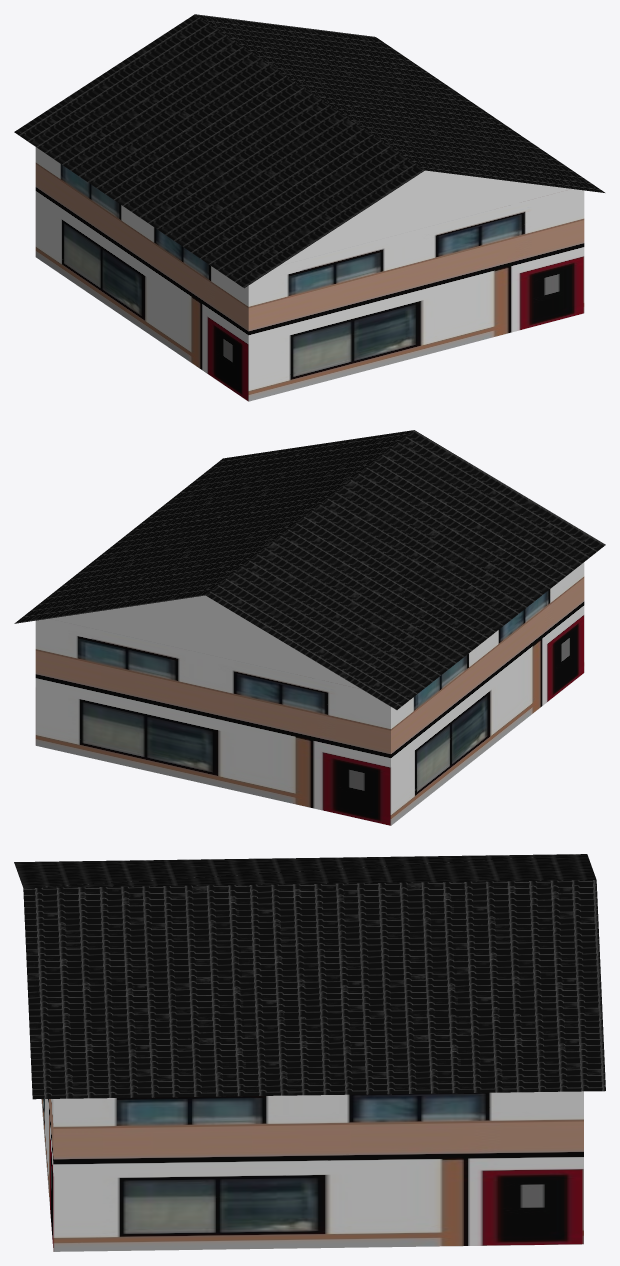
3 views of the same model, one above another, from view 1: azimuth 30°, elevation 25°; view 2: azimuth 150°, elevation 25°; view 3: azimuth 270°, elevation 25° (orthographic). The views are drawn at different scales.
Visible parts, largest first — view 1: CityEngineMaterial_14_m, CityEngineMaterial_5_m, CityEngineMaterial_3_m; view 2: CityEngineMaterial_14_m, CityEngineMaterial_5_m, CityEngineMaterial_3_m; view 3: CityEngineMaterial_14_m, CityEngineMaterial_5_m.
Boxes of the visible parts, box(x1,y1,x2,y2) form: CityEngineMaterial_14_m: box(14, 14, 604, 288); CityEngineMaterial_5_m: box(35, 147, 584, 401); CityEngineMaterial_3_m: box(279, 170, 570, 265); CityEngineMaterial_14_m: box(14, 430, 605, 709); CityEngineMaterial_5_m: box(35, 562, 584, 825); CityEngineMaterial_3_m: box(50, 595, 360, 688); CityEngineMaterial_14_m: box(14, 854, 605, 1099); CityEngineMaterial_5_m: box(41, 1091, 583, 1251).
Size of the model in its own units: 27 by 13.05 by 27.55.
